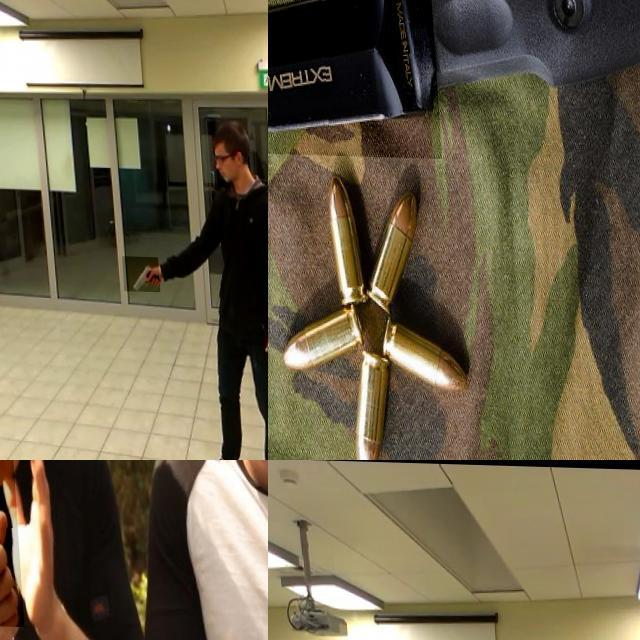-: (268, 0, 441, 156), (0, 460, 39, 626)
gun-knife-thesis - v11 Yolov5 augmented: (116, 254, 154, 290)
